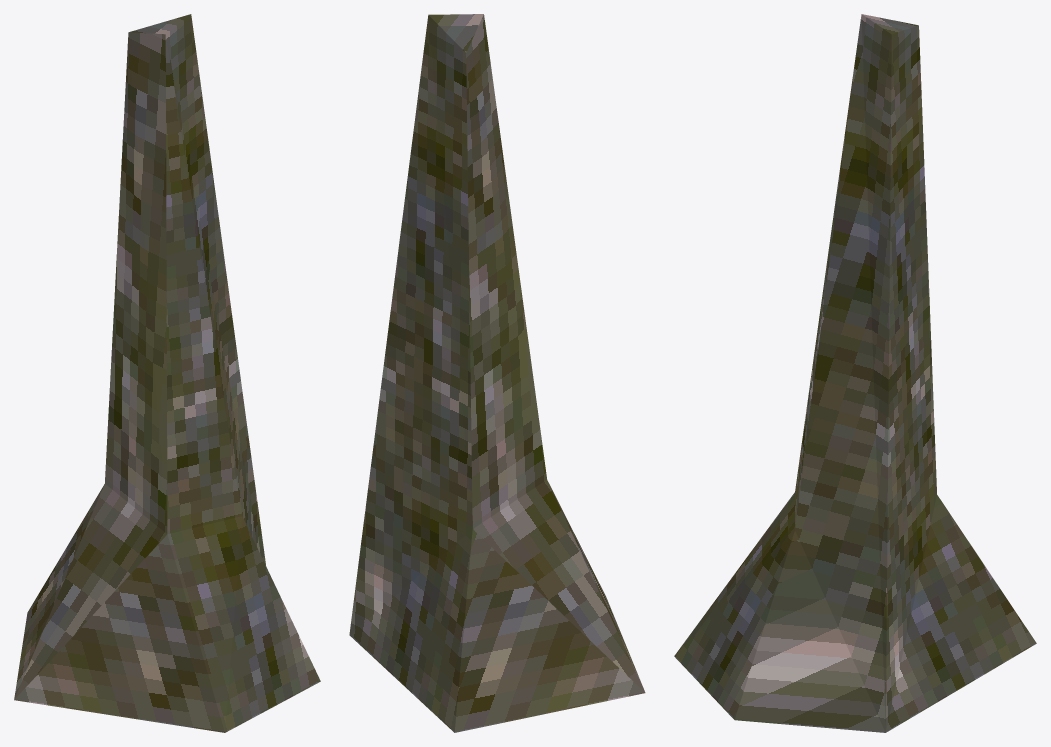
File: uvmd-0056.glb
3 views of the same model, side by side, from view 1: azimuth 30°, elevation 25°; view 2: azimuth 150°, elevation 25°; view 3: azimuth 270°, elevation 25° (orthographic). The views are drawn at different scales.
Visible parts, largest first — view 1: uvmd-0056; view 2: uvmd-0056; view 3: uvmd-0056.
Part boxes in pixels (bbox=[...]): uvmd-0056: bbox=[14, 14, 320, 732]; uvmd-0056: bbox=[349, 14, 645, 732]; uvmd-0056: bbox=[674, 14, 1036, 732].
Bounding box in the file's own units: 110 × 240 × 120.
1 material, 1 textured.
